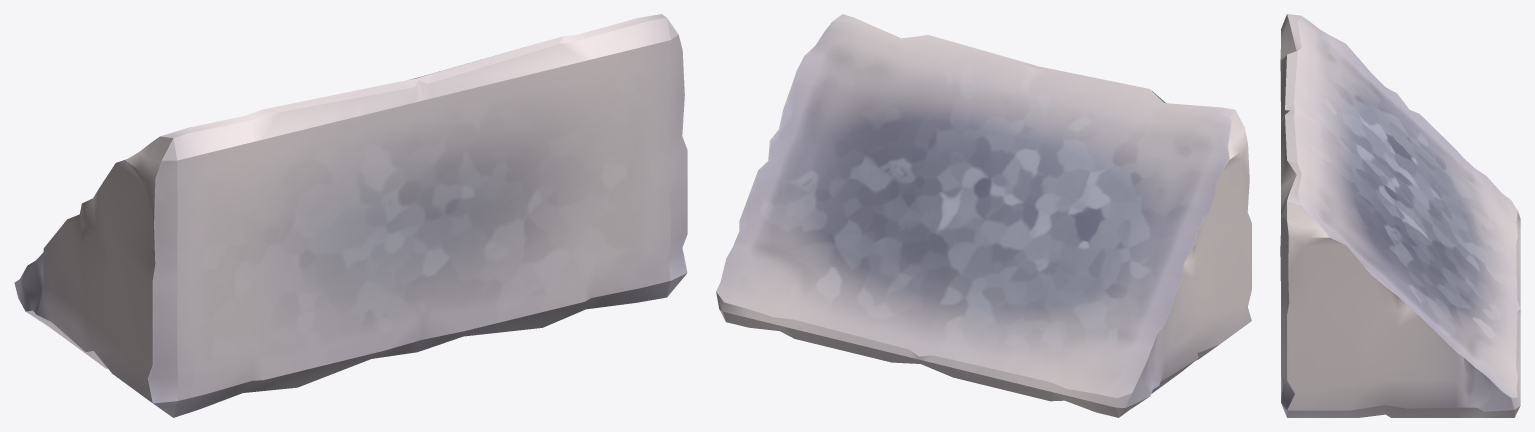
The model's file is snow_slope.fbx.
The picture shows the model from 3 angles, left to right: view 1: azimuth 30°, elevation 25°; view 2: azimuth 150°, elevation 25°; view 3: azimuth 270°, elevation 25°; orthographic projection. The views are drawn at different scales.
Visible parts, largest first — view 1: snowy_slope; view 2: snowy_slope; view 3: snowy_slope.
Boxes of the visible parts, bbox=[...] form: snowy_slope: bbox=[14, 14, 687, 417]; snowy_slope: bbox=[716, 14, 1251, 417]; snowy_slope: bbox=[1280, 14, 1520, 417].
Bounding box in the file's own units: 200 × 100 × 100.
